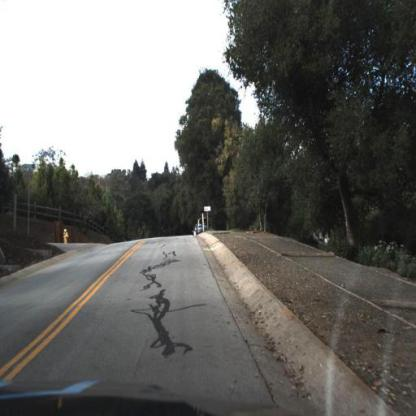car: (197, 213, 215, 236)
